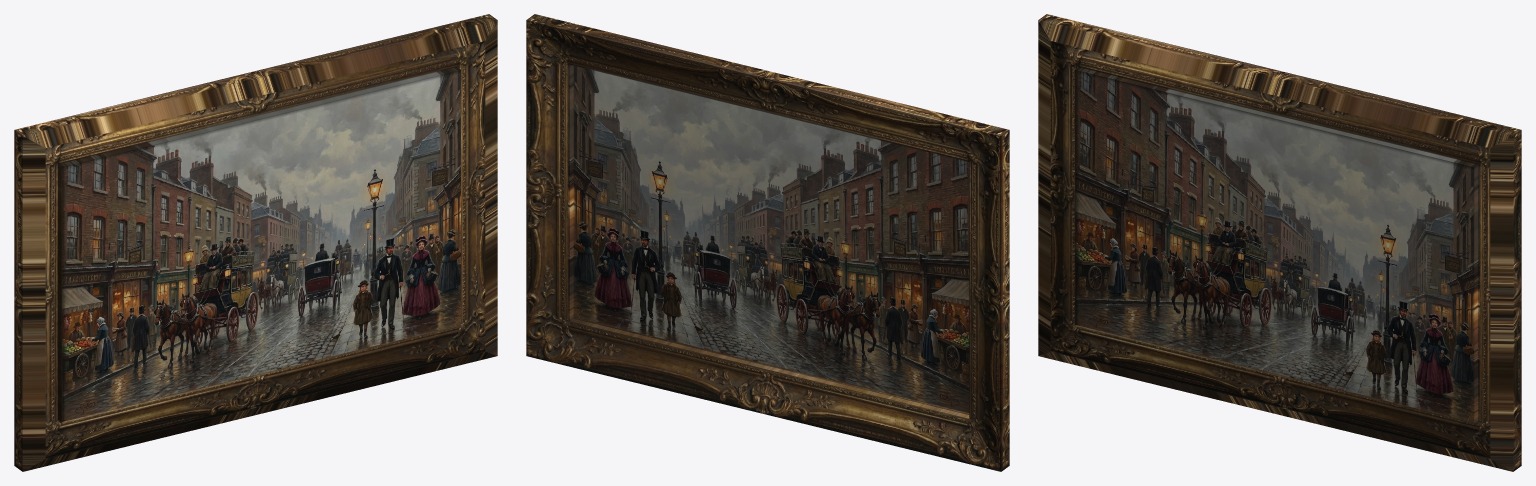
File: Painting_02.fbx
3 views of the same model, side by side, from view 1: azimuth 30°, elevation 25°; view 2: azimuth 150°, elevation 25°; view 3: azimuth 330°, elevation 25° (orthographic).
Visible parts, largest first — view 1: Painting 4; view 2: Painting 4; view 3: Painting 4.
Part boxes in pixels (x1,y1,x2,y2): Painting 4: (14, 14, 497, 471); Painting 4: (526, 14, 1009, 471); Painting 4: (1038, 14, 1521, 471).
Size of the model in its own units: 0.085 by 1.69 by 1.14.
Materials: 1 (1 with a texture image).
